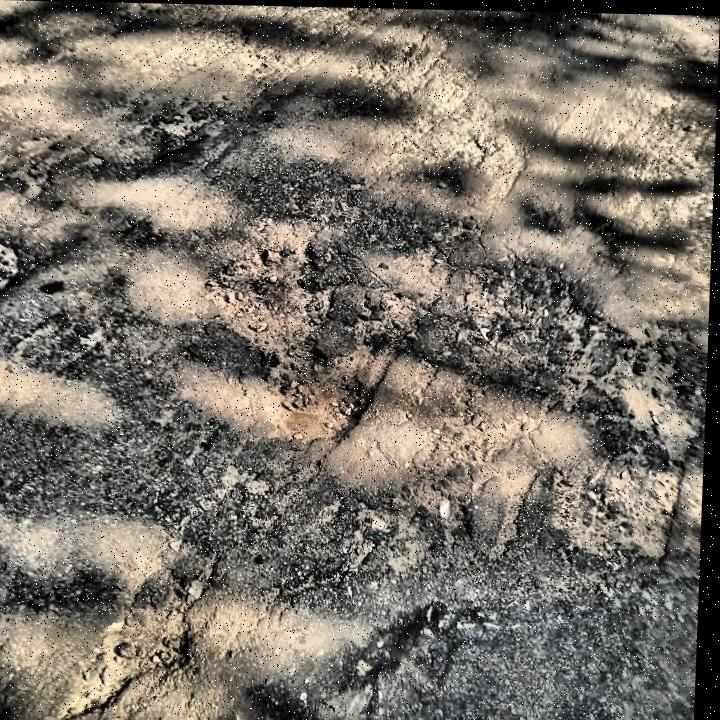pothole: (52, 603, 204, 719), (198, 238, 343, 345), (255, 348, 374, 444)
